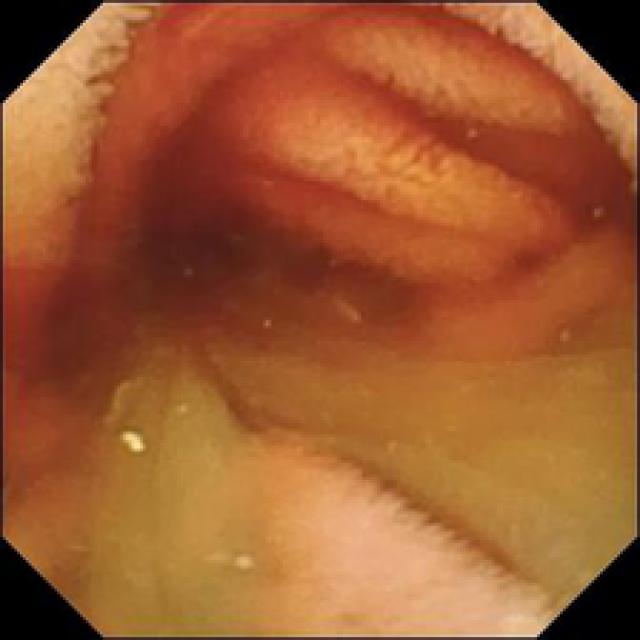bleeding: (0, 0, 640, 437), (365, 464, 512, 574)
